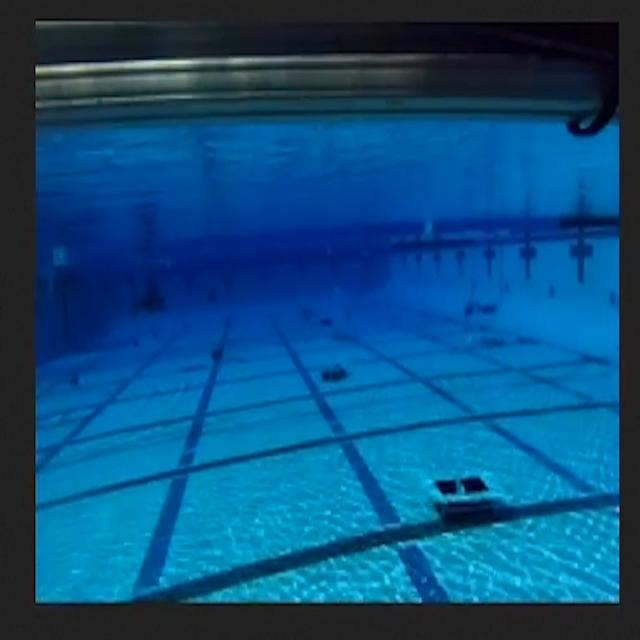Bin: (411, 434, 508, 540)
